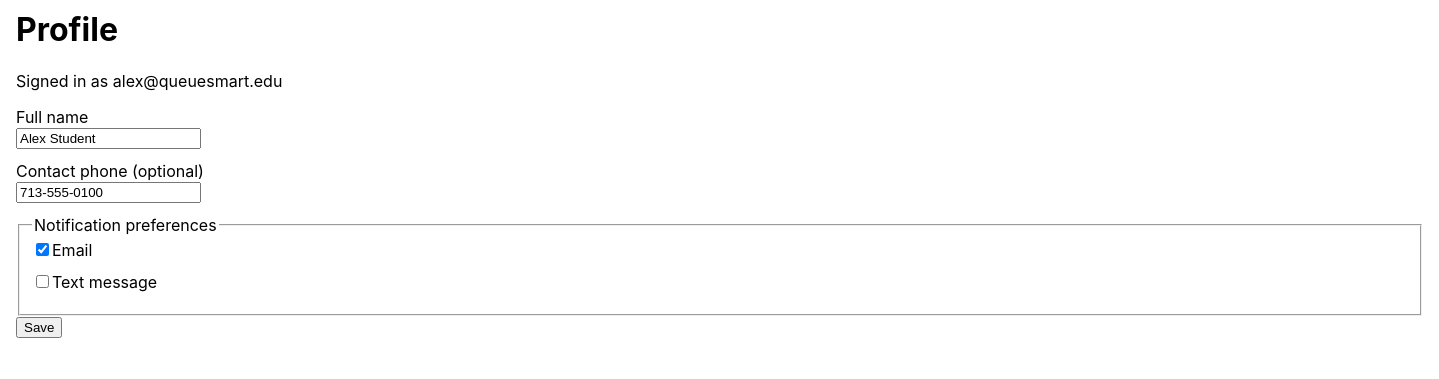
Test case: Profile › shows field errors from the API next to the field
The width and height of the screenshot is (1439, 379).
Expected: the field labelled "Full name" is shown, [16,128,201,149]
Click the button "Save": (39,328) [16,318,62,338]
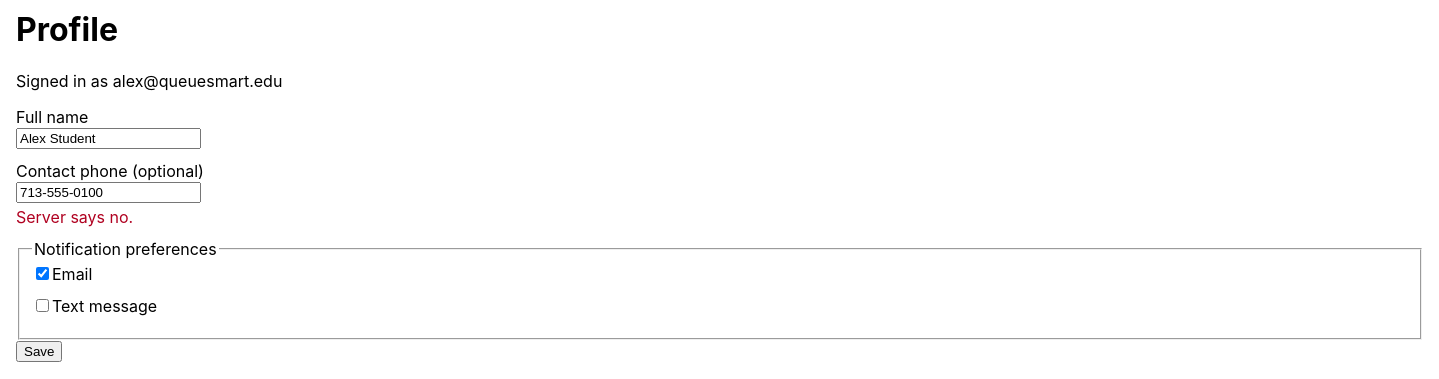
Now the text "Server says no." is shown, box [16,207,133,227]
